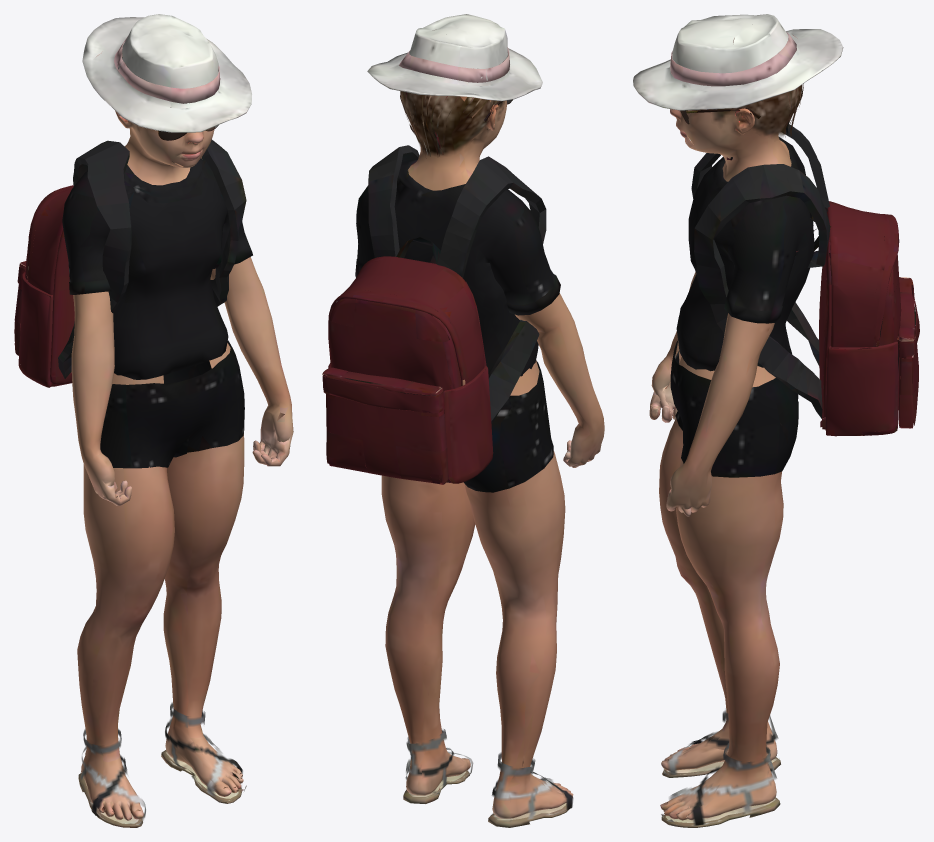
The picture shows the model from 3 angles, left to right: view 1: azimuth 30°, elevation 25°; view 2: azimuth 150°, elevation 25°; view 3: azimuth 270°, elevation 25°; orthographic projection. The views are drawn at different scales.
Visible parts, largest first — view 1: p02411; view 2: p02411; view 3: p02411.
Part boxes in pixels (x1,y1,x2,y2): p02411: (14, 14, 293, 827); p02411: (322, 14, 604, 827); p02411: (633, 14, 919, 827).
Bounding box in the file's own units: 0.3848 × 1.29 × 0.4264.
1 material, 1 textured.
